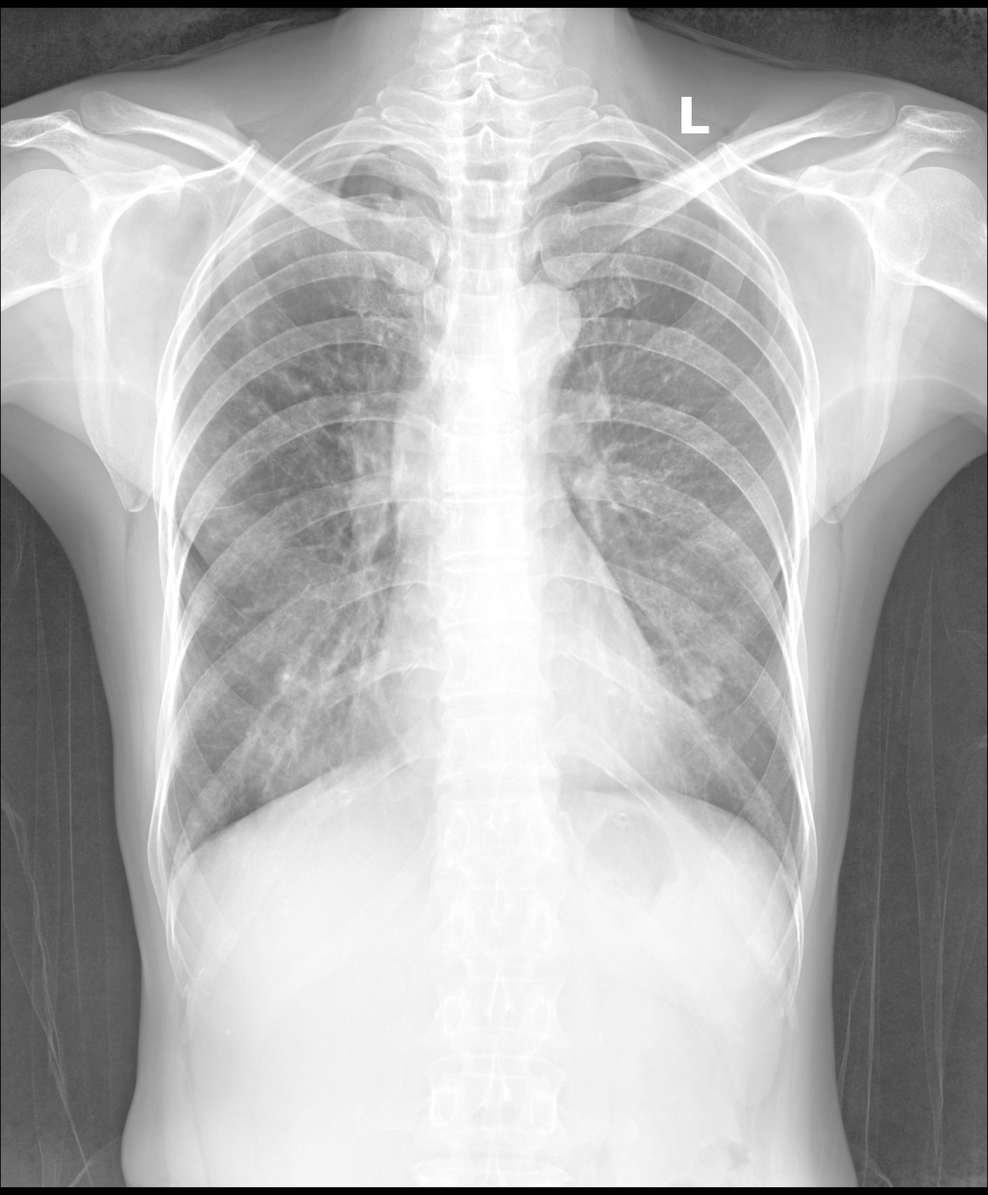Pleural thickening: (151, 841, 194, 894)
Pulmonary fibrosis: (164, 202, 366, 445)
